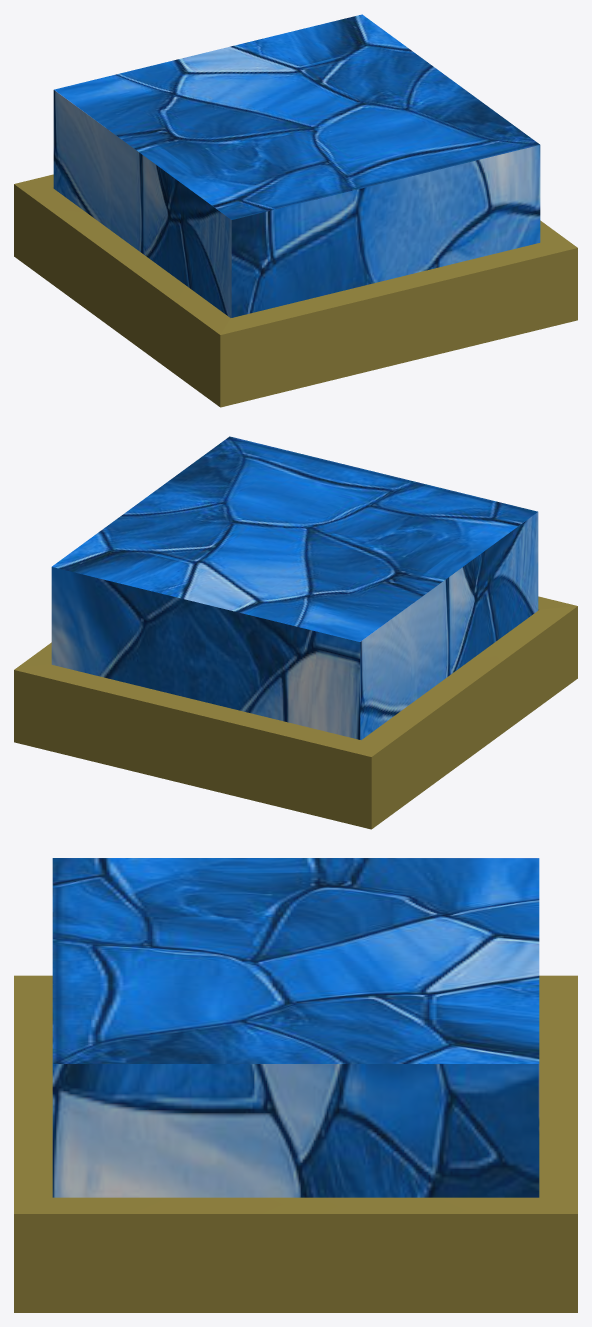
Rendered from squareUnpressedCompressed.glb.
3 renders of one model, top to bottom at view 1: azimuth 30°, elevation 25°; view 2: azimuth 150°, elevation 25°; view 3: azimuth 270°, elevation 25°, orthographic. The views are drawn at different scales.
Visible parts, largest first — view 1: Cube.002; view 2: Cube.002; view 3: Cube.002.
Boxes of the visible parts, x1,y1,x2,y2 form: Cube.002: [14, 14, 577, 407]; Cube.002: [14, 436, 577, 829]; Cube.002: [14, 858, 577, 1312].
Bounding box in the file's own units: 1 × 0.4615 × 1.
Materials: 2 (1 with a texture image).
